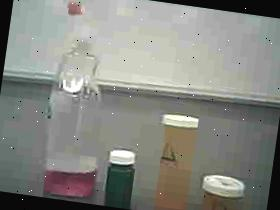Bottle A: (144, 103, 204, 210)
Bottle B: (196, 164, 264, 210)
Bottle C: (99, 140, 142, 210)
hazard: (30, 0, 125, 205)
